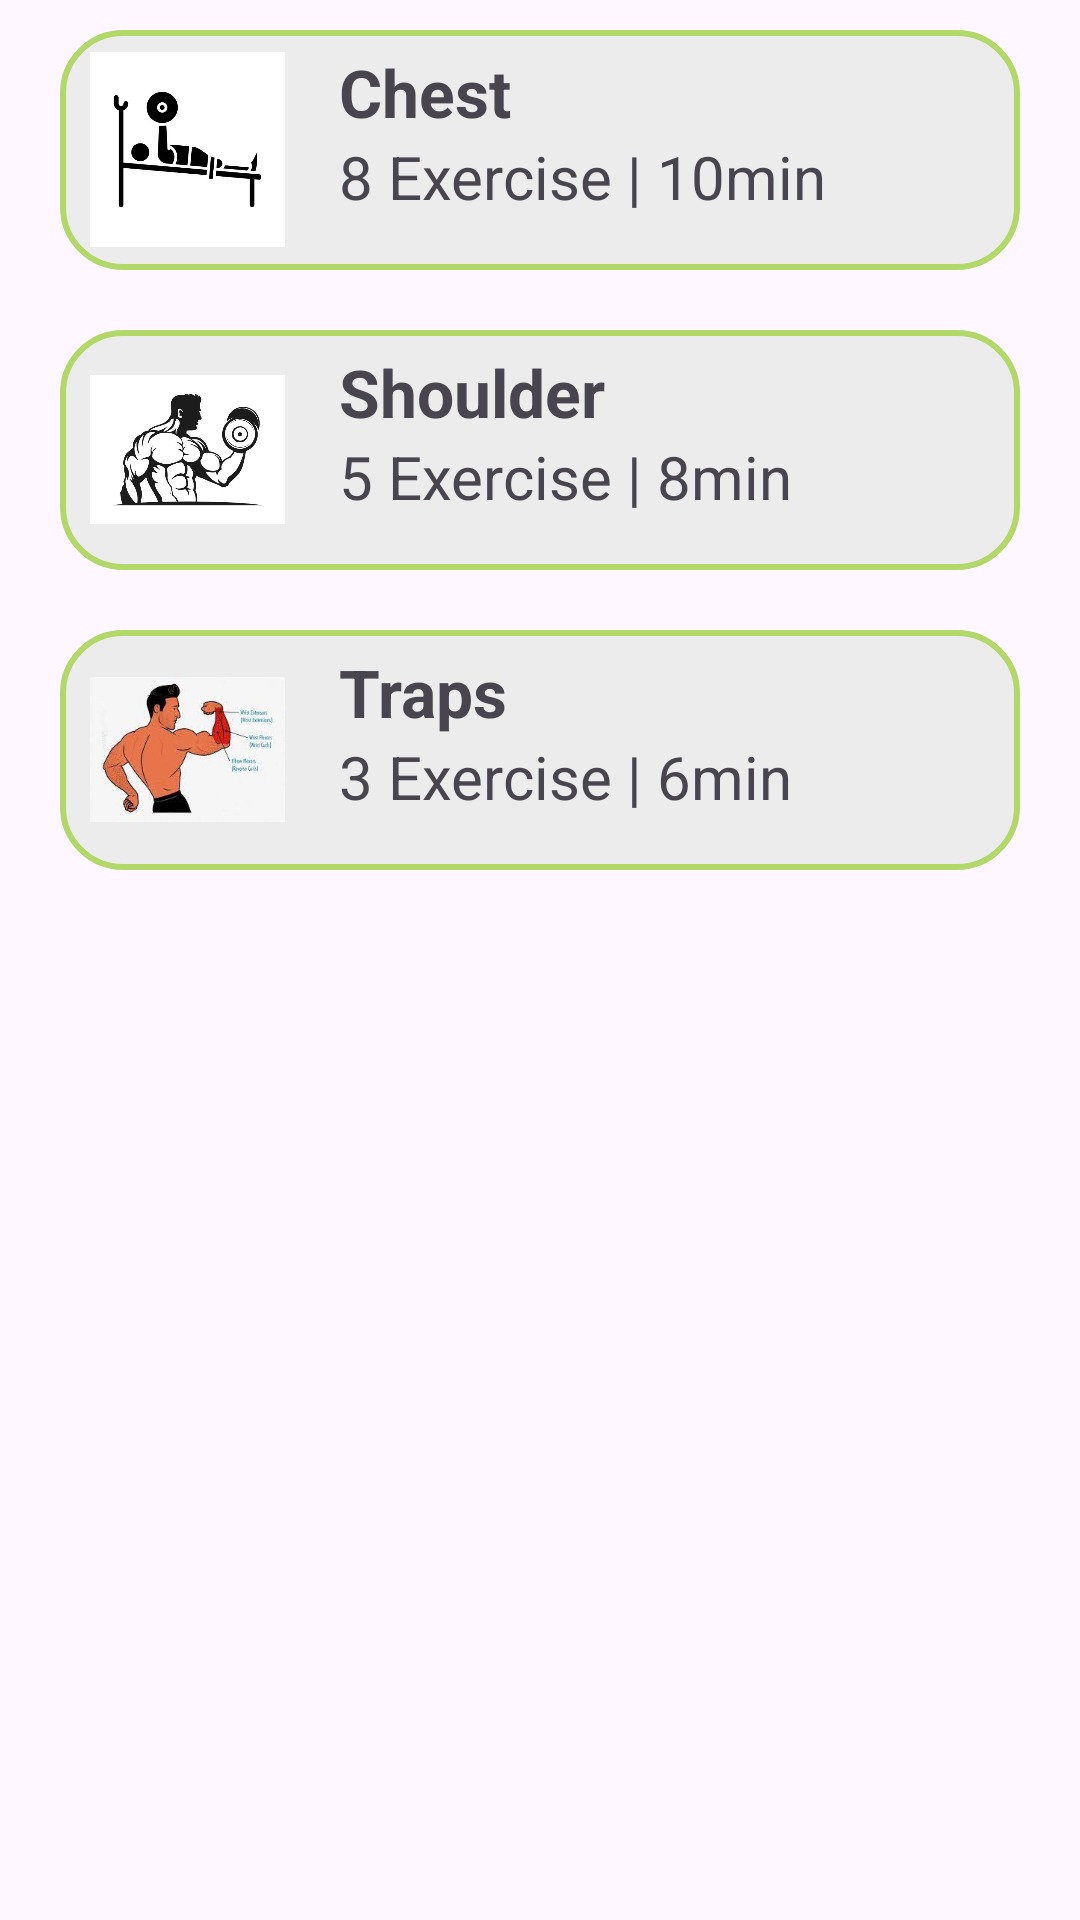

Icon bounding boxes for this 1080*1920 phone screenshot, format (x1, y1, x2, y2):
forearms: (90, 677, 285, 822)
